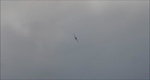maybay_muctieu: (72, 31, 80, 44)
